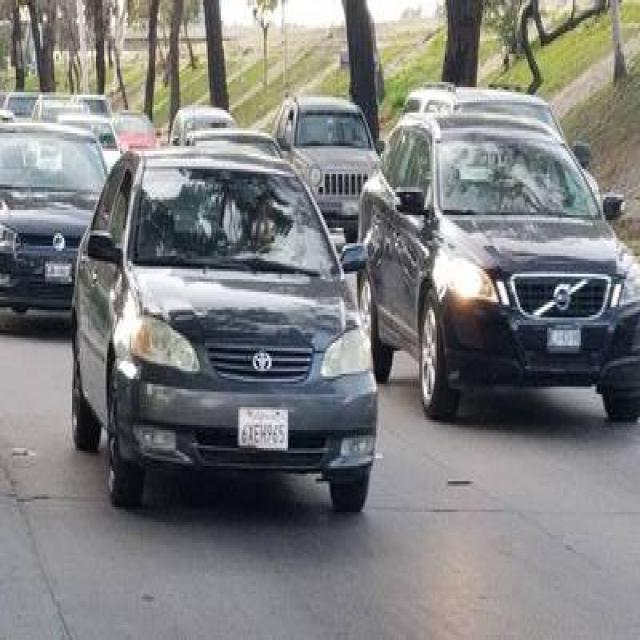placa: (238, 419, 288, 449), (547, 330, 584, 348), (44, 263, 72, 279)
